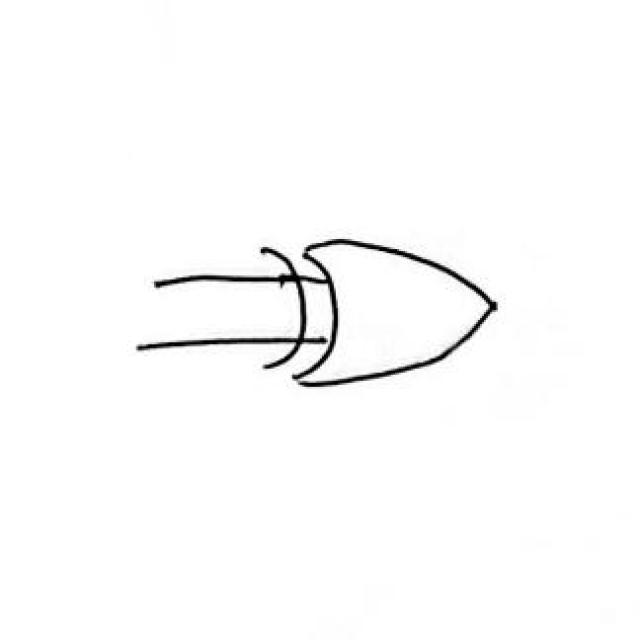XOR: (249, 224, 551, 409)
